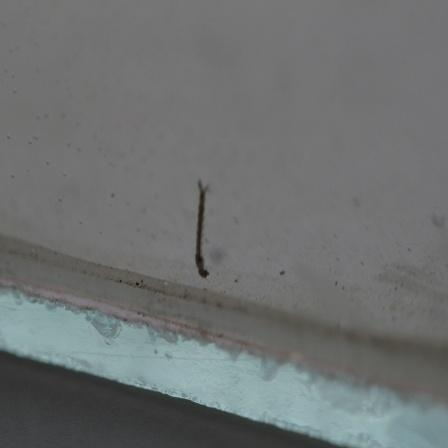Jentik-Nyamuk: (191, 172, 218, 282)
